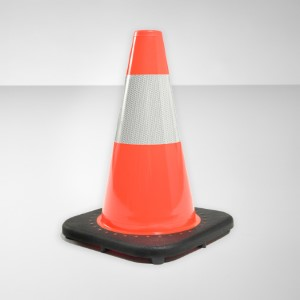traffic cone: (61, 30, 234, 265)
